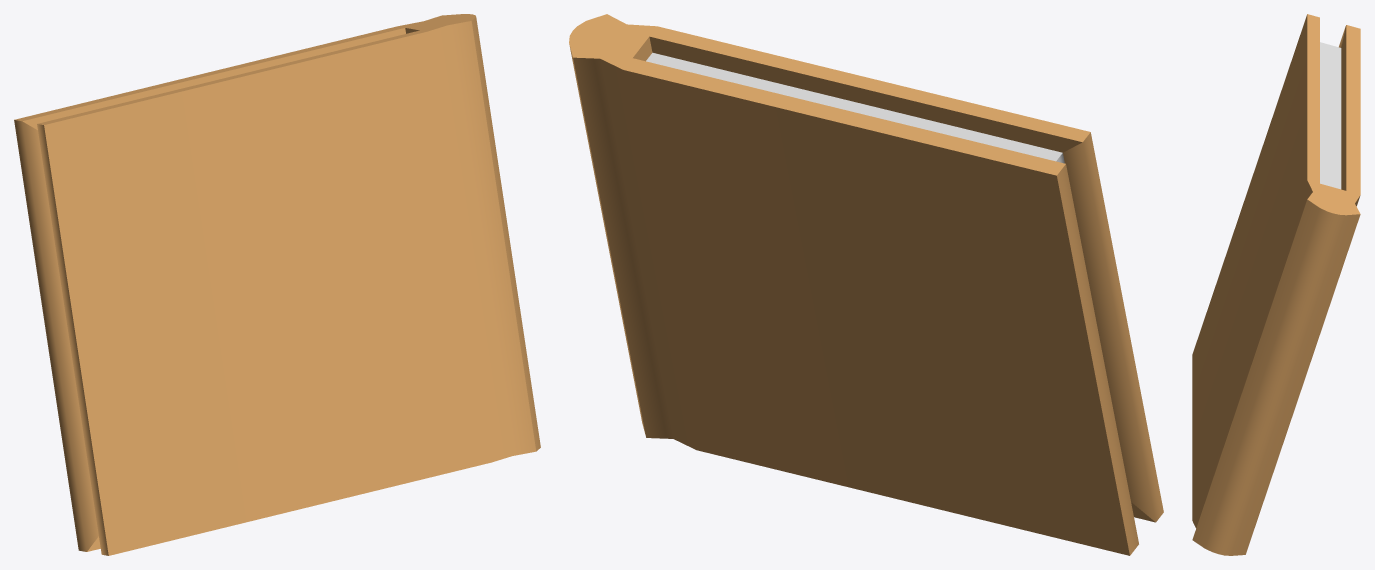
The model's file is Book1.fbx.
3 views of the same model, side by side, from view 1: azimuth 30°, elevation 25°; view 2: azimuth 150°, elevation 25°; view 3: azimuth 270°, elevation 25° (orthographic). The views are drawn at different scales.
Visible parts, largest first — view 1: book7; view 2: book7; view 3: book7.
Boxes of the visible parts, x1,y1,x2,y2 form: book7: (14,14,540,555); book7: (569,14,1163,555); book7: (1192,14,1360,555).
Bounding box in the file's own units: 4.33 × 3.73 × 1.6.
